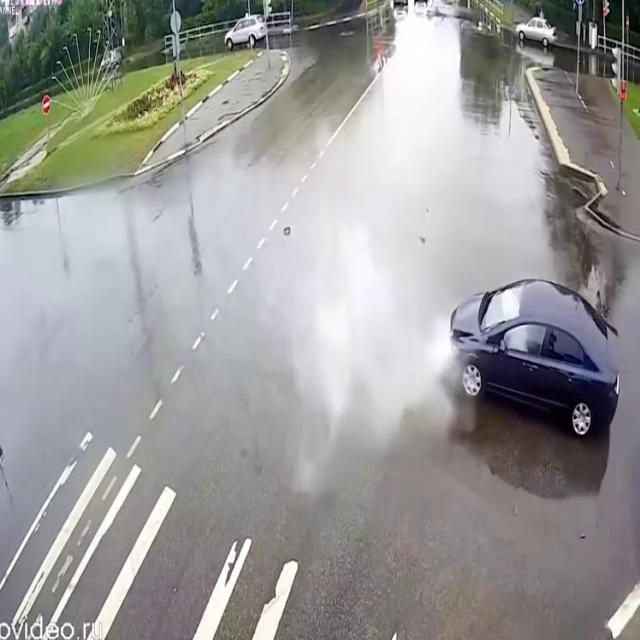accident: (380, 235, 636, 465)
